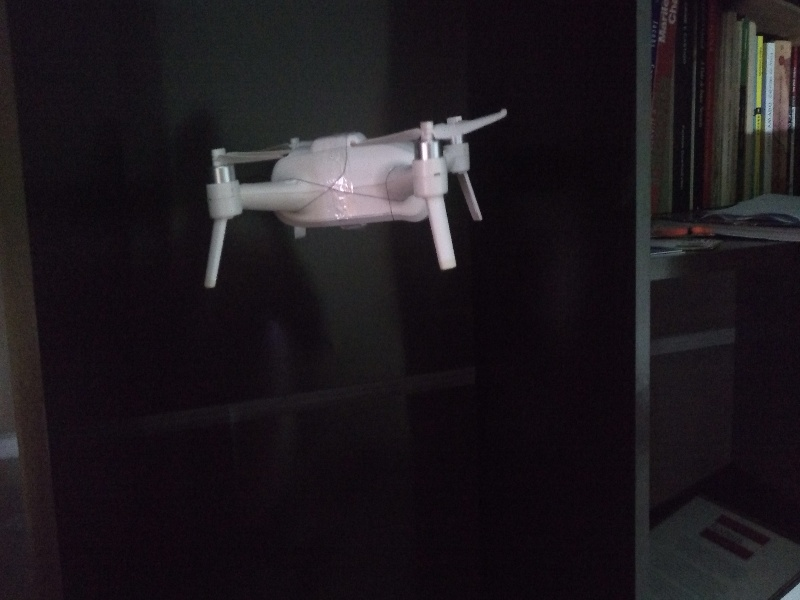drone: (195, 105, 513, 272)
